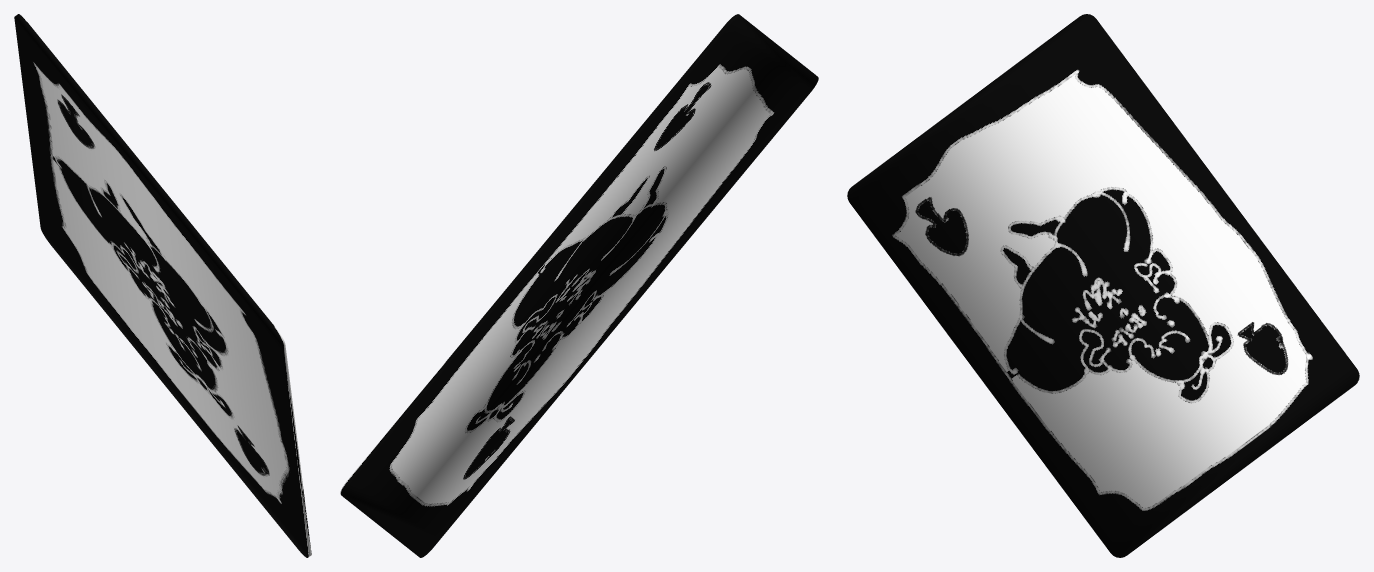
File: CD_Main.fbx
3 views of the same model, side by side, from view 1: azimuth 30°, elevation 25°; view 2: azimuth 150°, elevation 25°; view 3: azimuth 270°, elevation 25° (orthographic). The views are drawn at different scales.
Parts seen in each view (by area): view 1: CD_MAIN; view 2: CD_MAIN; view 3: CD_MAIN.
Boxes of the visible parts, x1,y1,x2,y2 form: CD_MAIN: (14,14,311,557); CD_MAIN: (340,14,818,557); CD_MAIN: (847,14,1359,557).
Bounding box in the file's own units: 63.51 × 122 × 129.
1 material, 1 textured.
